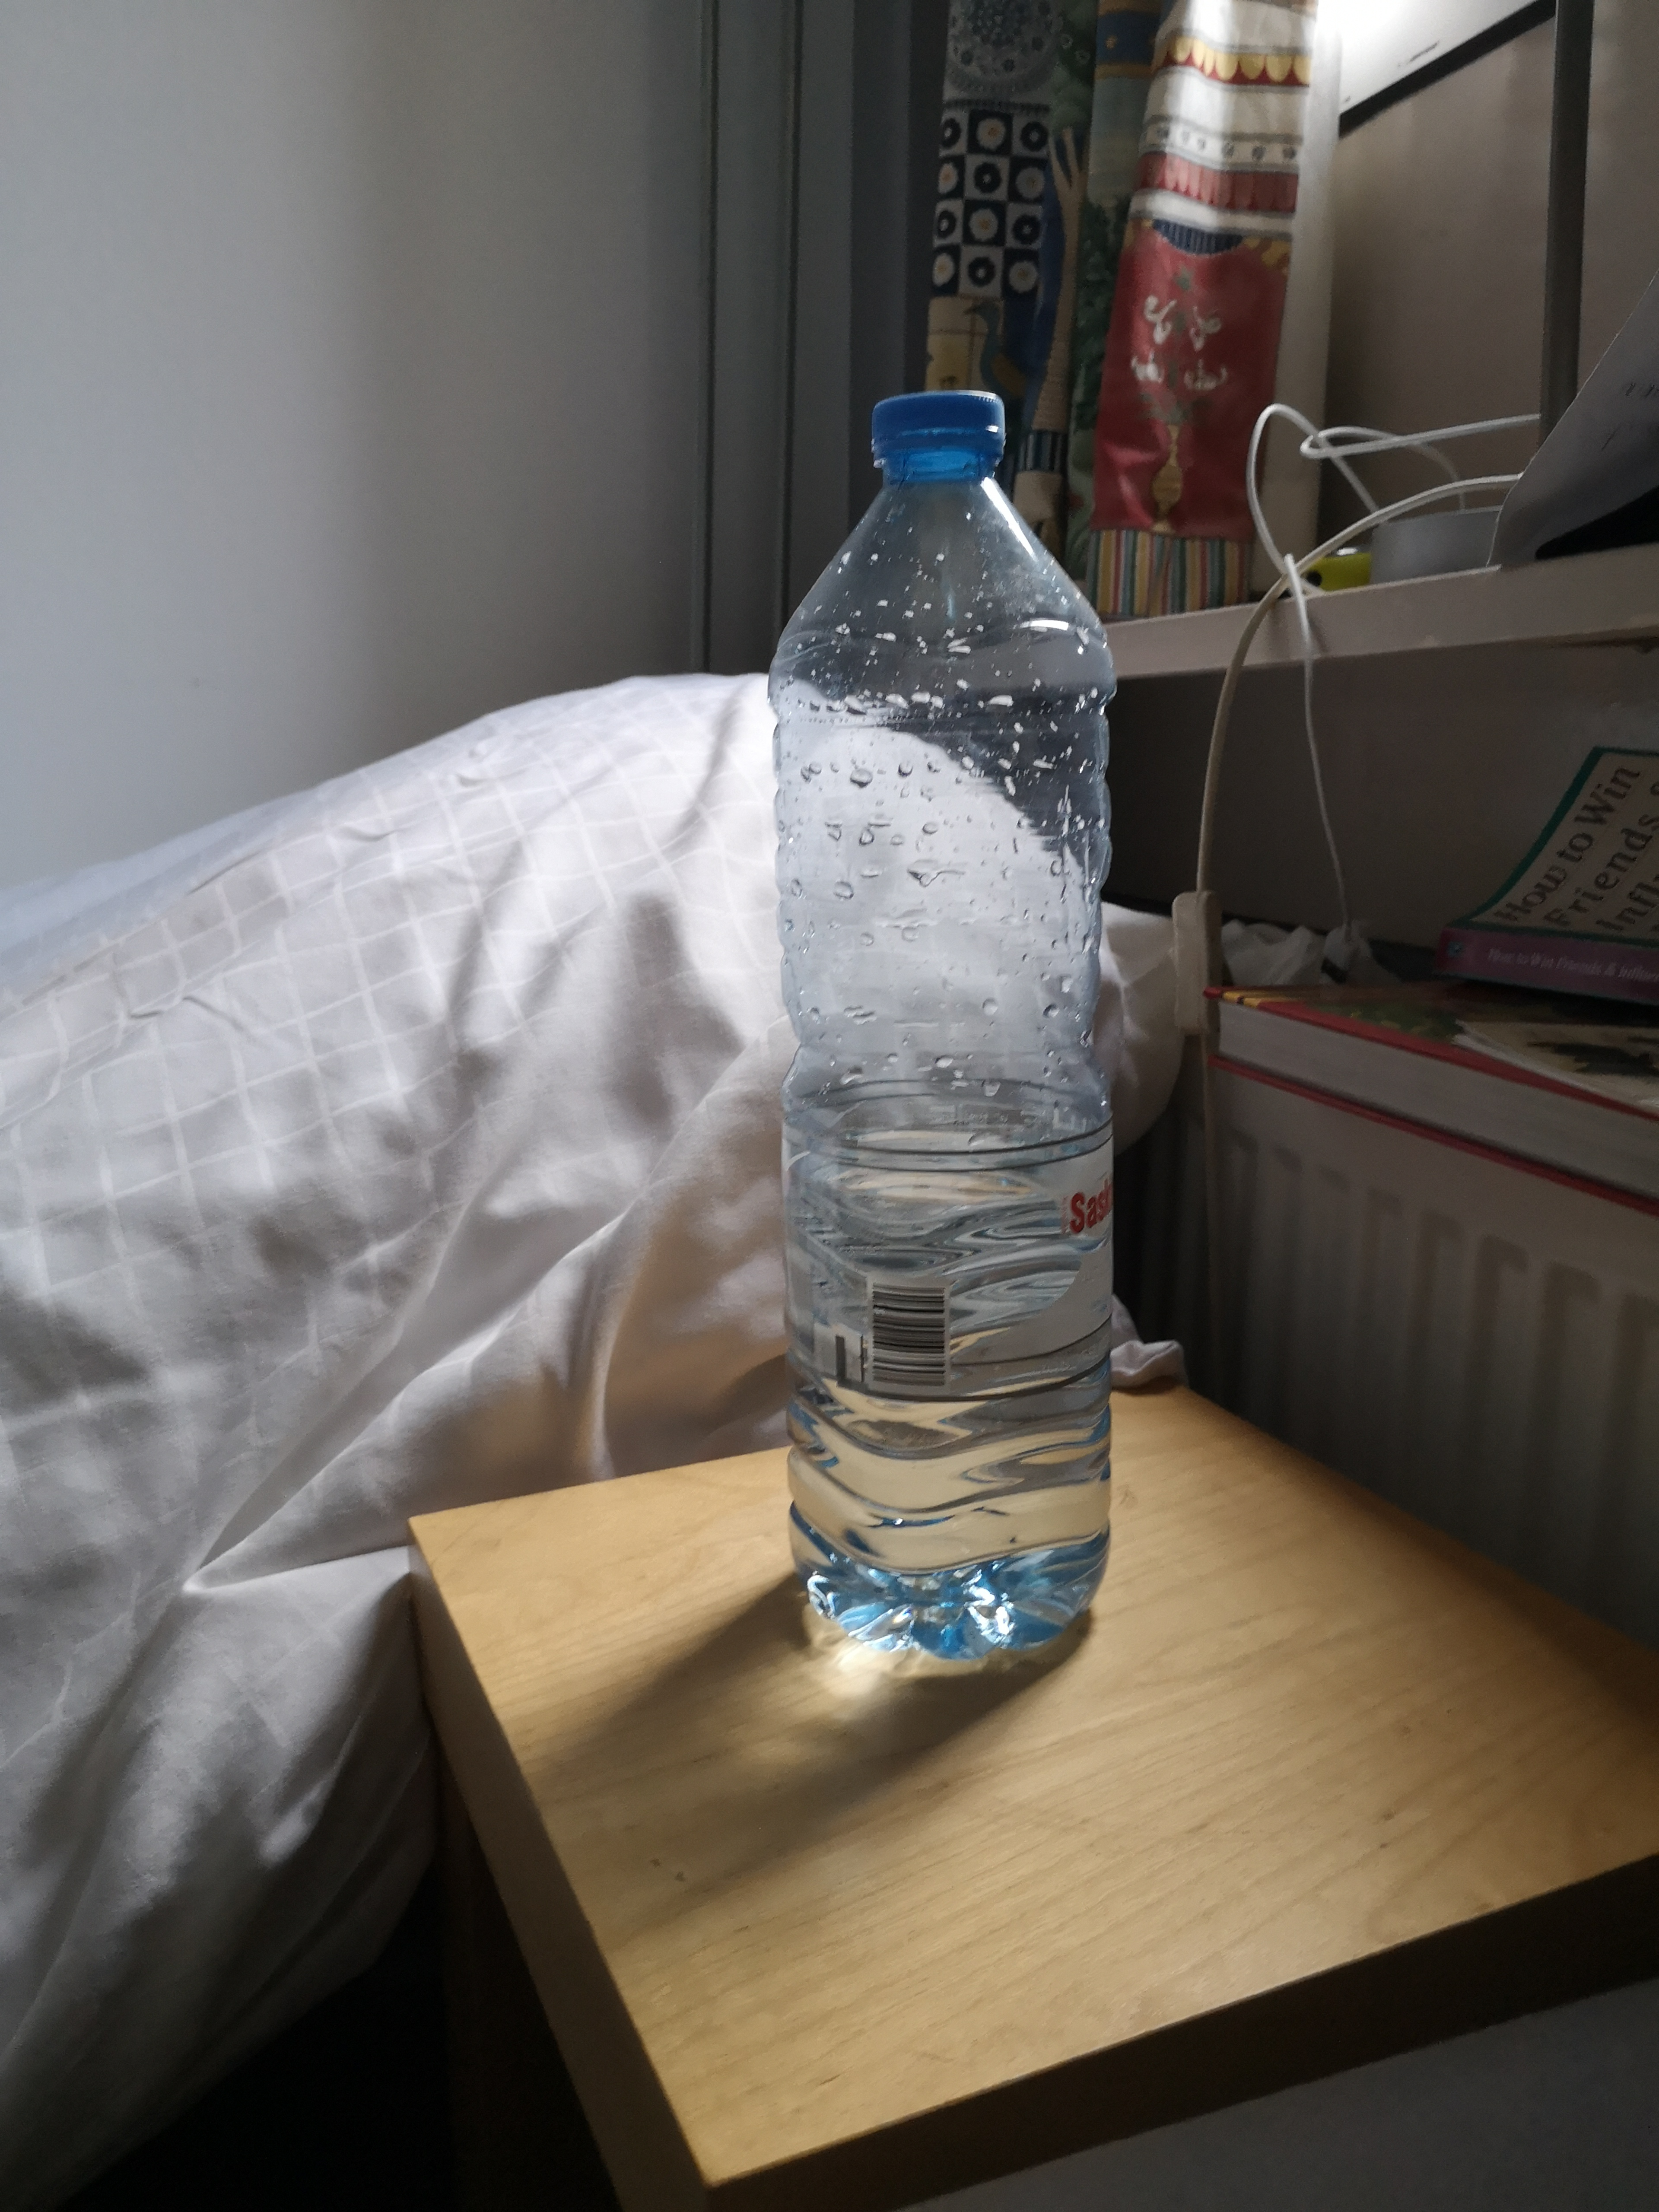plastic_bottle: (723, 357, 1188, 1719)
